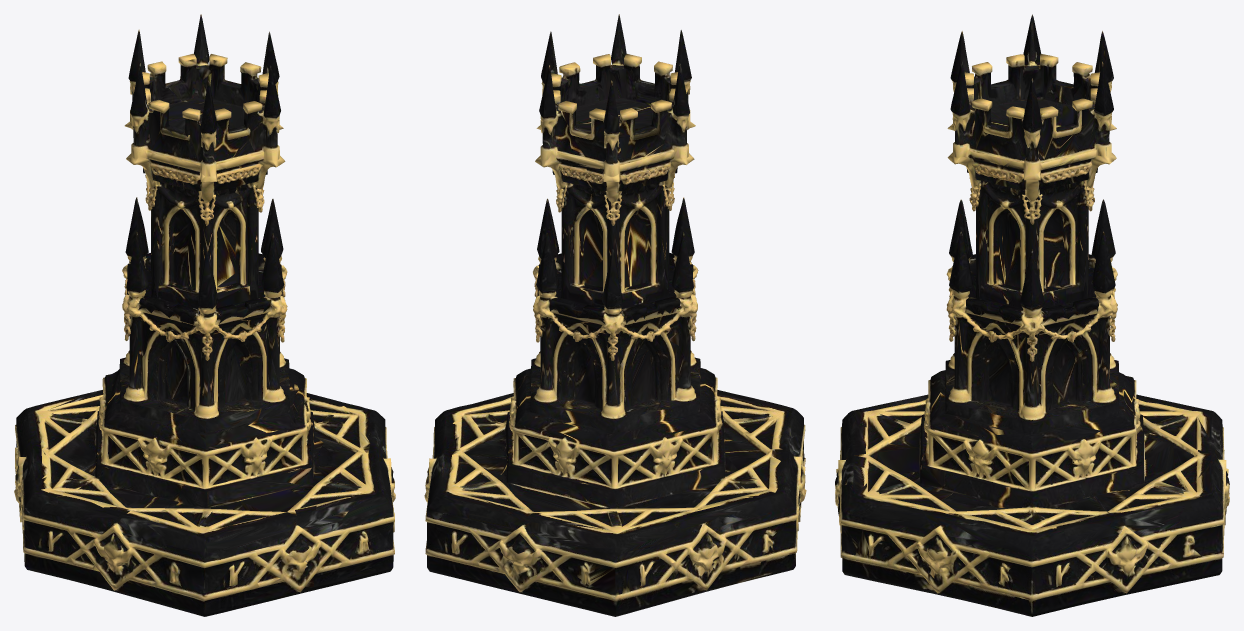
The model's file is Obsidian_Citadel.glb.
3 views of the same model, side by side, from view 1: azimuth 30°, elevation 25°; view 2: azimuth 150°, elevation 25°; view 3: azimuth 270°, elevation 25° (orthographic).
Parts seen in each view (by area): view 1: Obsidian_Citadel; view 2: Obsidian_Citadel; view 3: Obsidian_Citadel.
Boxes of the visible parts, bbox=[...] form: Obsidian_Citadel: bbox=[14, 14, 395, 616]; Obsidian_Citadel: bbox=[424, 14, 806, 616]; Obsidian_Citadel: bbox=[835, 14, 1229, 616].
Size of the model in its own units: 1.51 by 1.9 by 1.41.
Materials: 1 (1 with a texture image).
